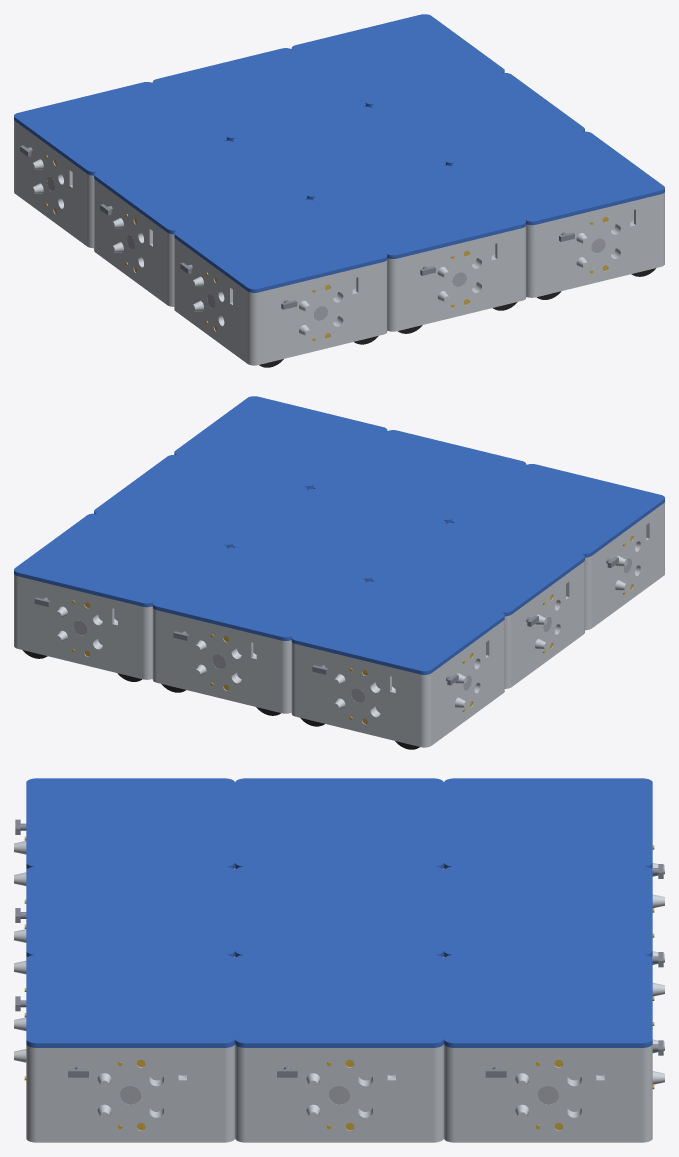
File: cluster_square9.glb
The picture shows the model from 3 angles, top to bottom: view 1: azimuth 30°, elevation 25°; view 2: azimuth 150°, elevation 25°; view 3: azimuth 270°, elevation 25°; orthographic projection. The views are drawn at different scales.
Parts seen in each view (by area): view 1: lid_1 (×9), body_1 (×5); view 2: lid_1 (×9), body_1 (×5); view 3: lid_1 (×9), body_1 (×3).
Boxes of the visible parts, box(x1,y1,x2,y2) form: lid_1 (×9): box(14, 14, 664, 292); body_1 (×5): box(14, 120, 664, 365); lid_1 (×9): box(14, 396, 664, 674); body_1 (×5): box(14, 502, 664, 747); lid_1 (×9): box(26, 778, 652, 1047); body_1 (×3): box(14, 1017, 664, 1142).
Bounding box in the file's own units: 0.374 × 0.069 × 0.374.
